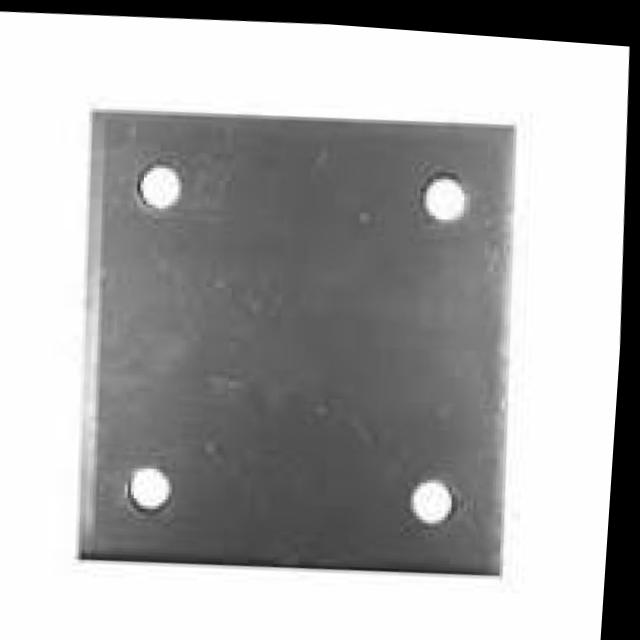holes: (422, 168, 470, 219), (136, 161, 184, 209), (131, 465, 178, 513), (413, 471, 458, 519)
